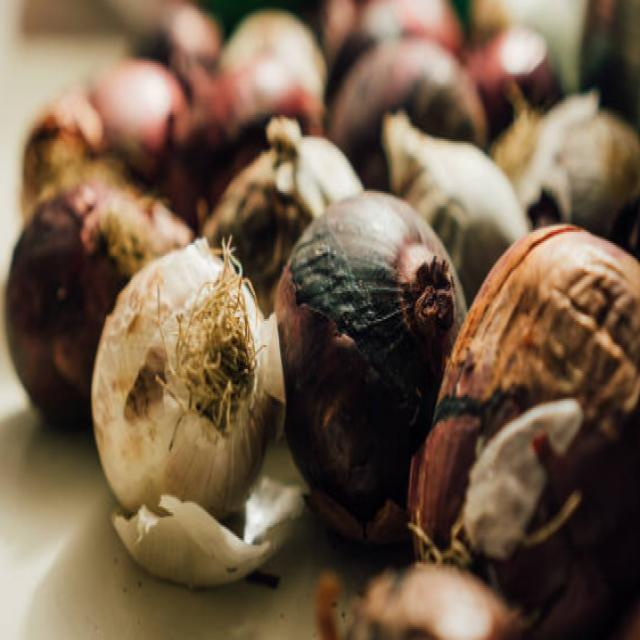rotten: (297, 239, 411, 362), (126, 314, 189, 408)
